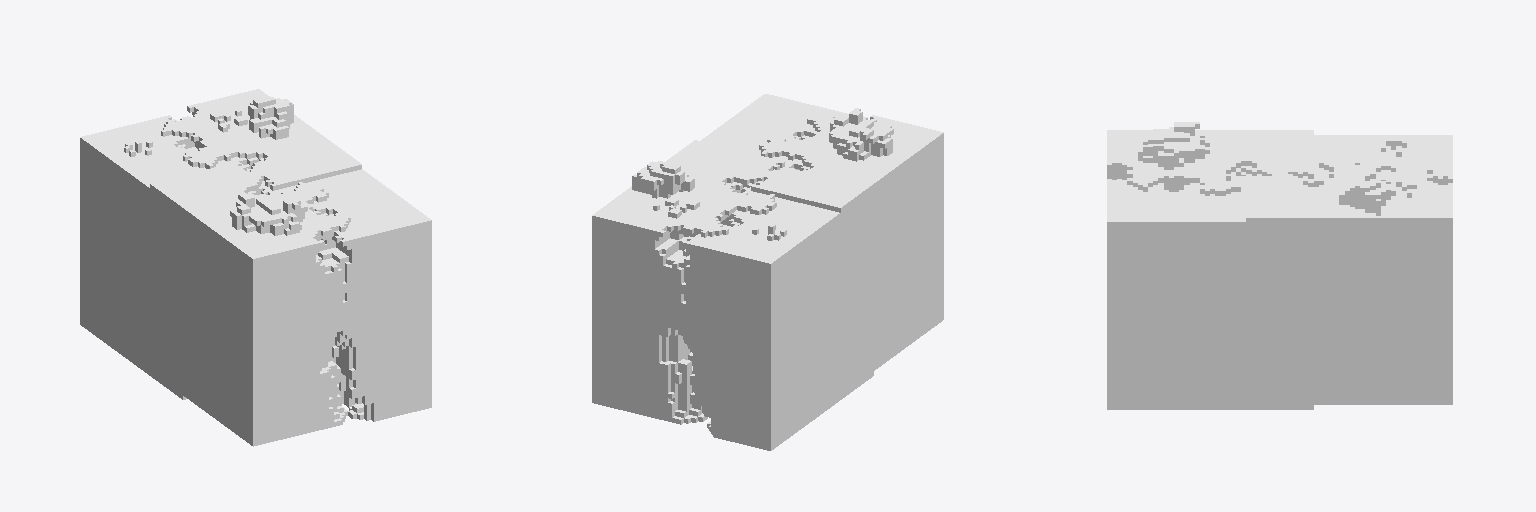
File: MountainRocks-9.obj
3 renders of one model, left to right at view 1: azimuth 30°, elevation 25°; view 2: azimuth 150°, elevation 25°; view 3: azimuth 270°, elevation 25°, orthographic.
Visible parts, largest first — view 1: object 1; view 2: object 1; view 3: object 1.
Boxes of the visible parts, box(x1,y1,x2,y2) form: object 1: box(80, 89, 431, 446); object 1: box(592, 94, 943, 450); object 1: box(1107, 122, 1452, 409).
Size of the model in its own units: 4 by 4.7 by 6.7.